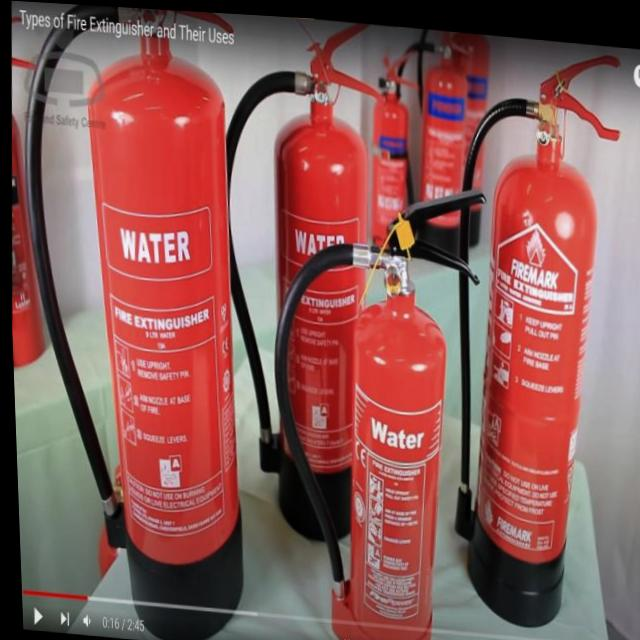FireExtinguisher: (0, 0, 264, 640), (429, 28, 640, 634), (252, 162, 501, 640), (188, 9, 404, 552), (374, 20, 478, 282), (0, 4, 61, 384), (358, 37, 423, 268)
